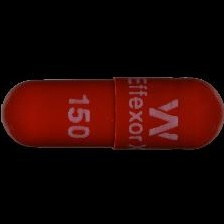67544-189: (0, 0, 224, 224)
